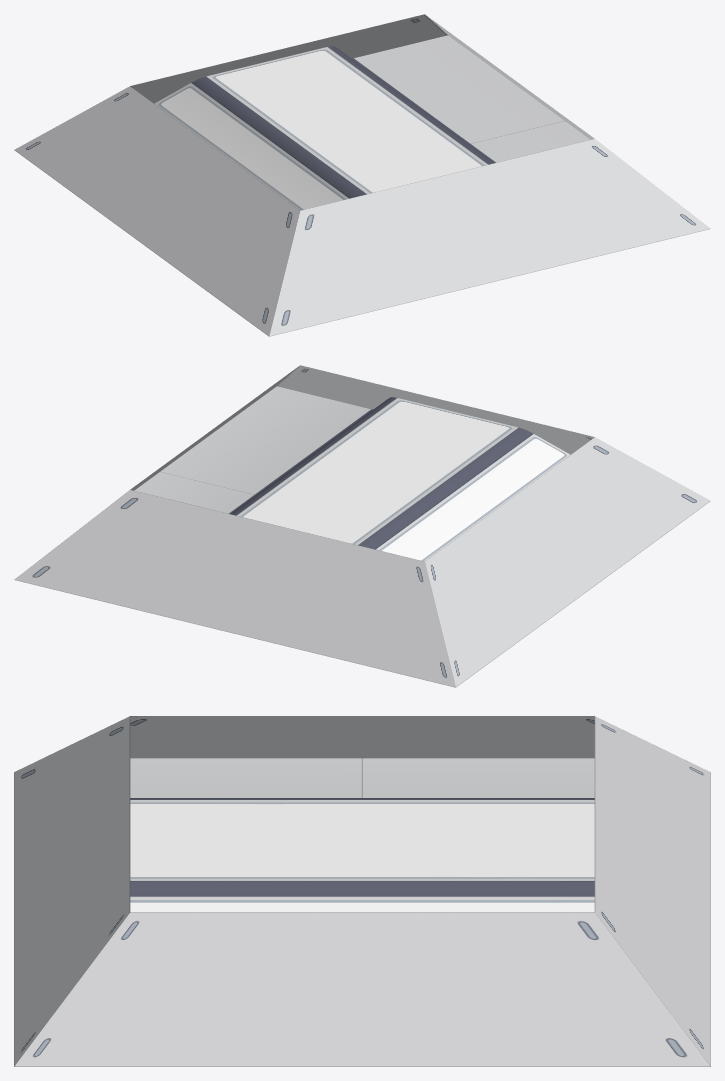
The model's file is Interior_Roof_01.FBX.
The picture shows the model from 3 angles, top to bottom: view 1: azimuth 30°, elevation 25°; view 2: azimuth 150°, elevation 25°; view 3: azimuth 270°, elevation 25°; orthographic projection. The views are drawn at different scales.
Parts seen in each view (by area): view 1: Interior_Roof_01; view 2: Interior_Roof_01; view 3: Interior_Roof_01.
Part boxes in pixels (x1,y1,x2,y2): Interior_Roof_01: [14, 14, 710, 336]; Interior_Roof_01: [14, 365, 710, 687]; Interior_Roof_01: [14, 716, 710, 1066].
Size of the model in its own units: 6 by 1 by 6.
